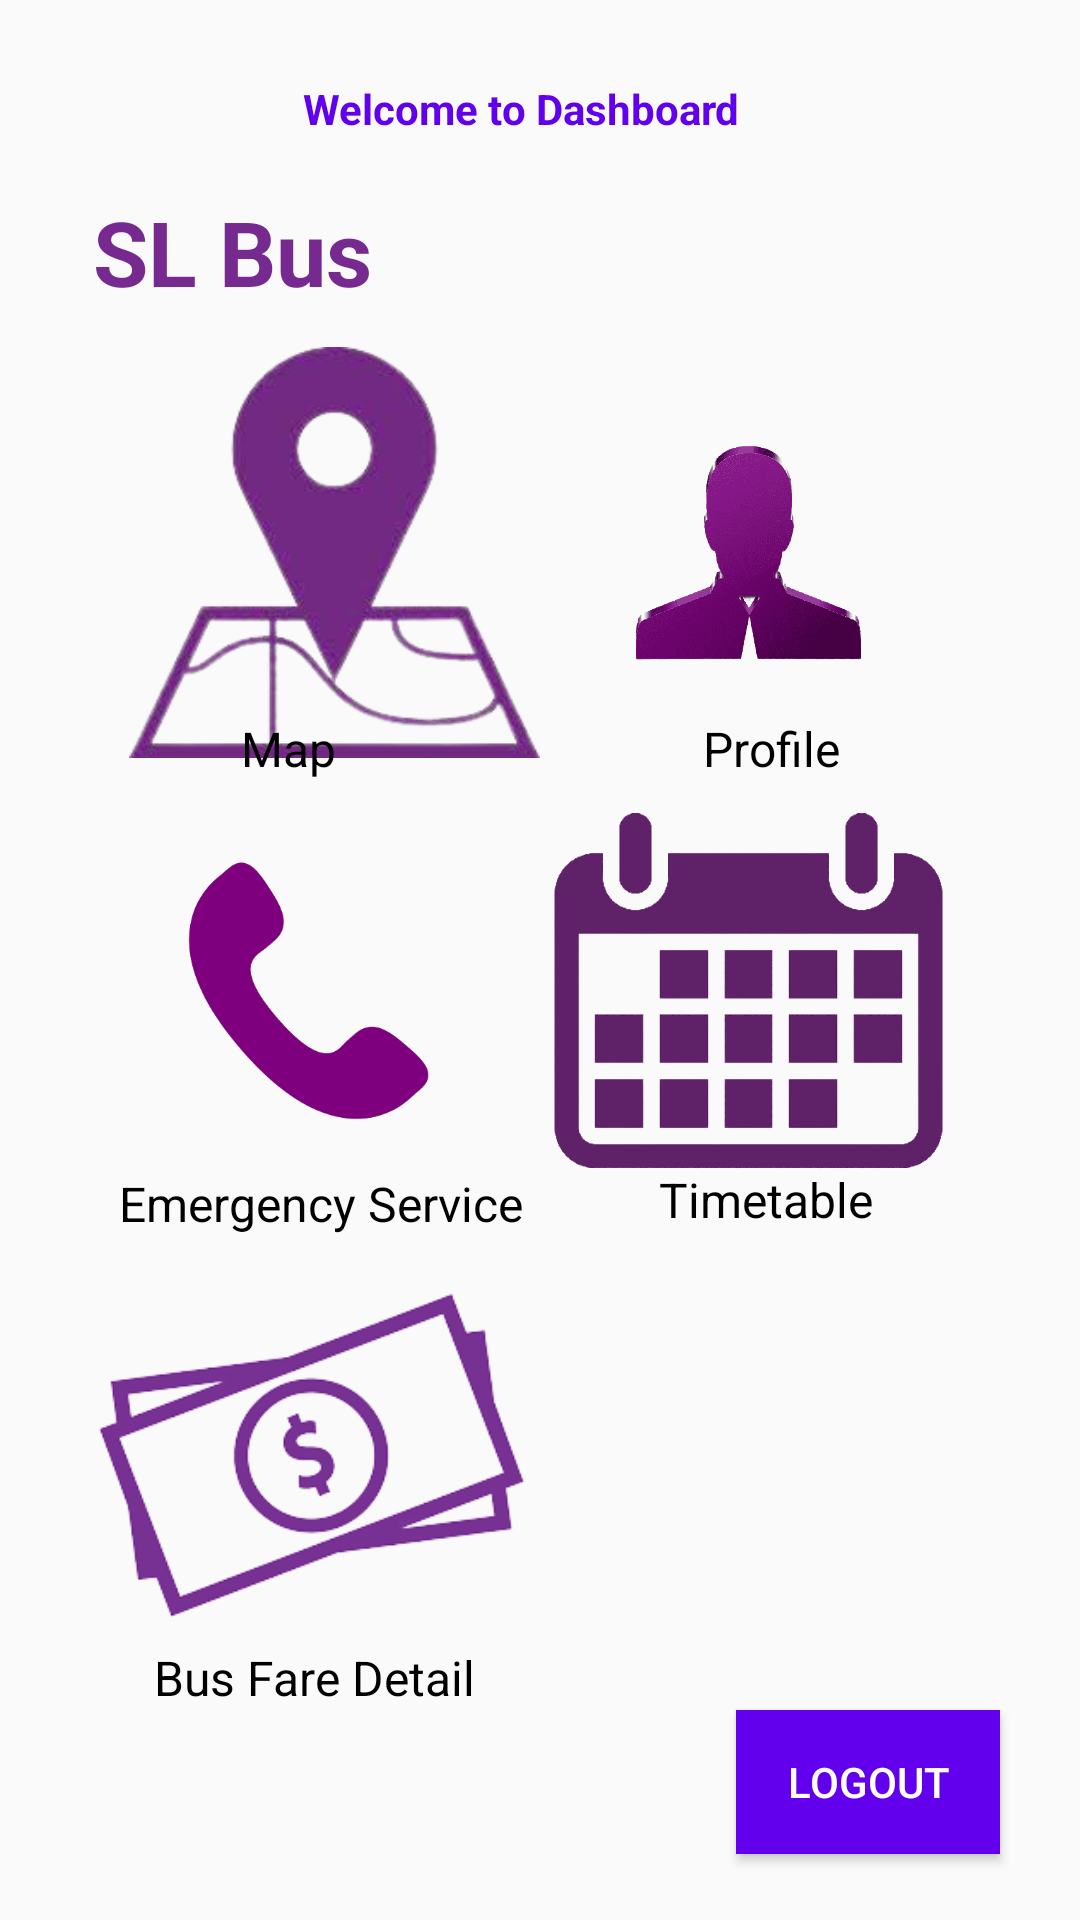

Locate icon controls on the screen. Image size 1080×1920, boxes as (x1, y1, x2, y2).
call: (188, 862, 470, 1193)
